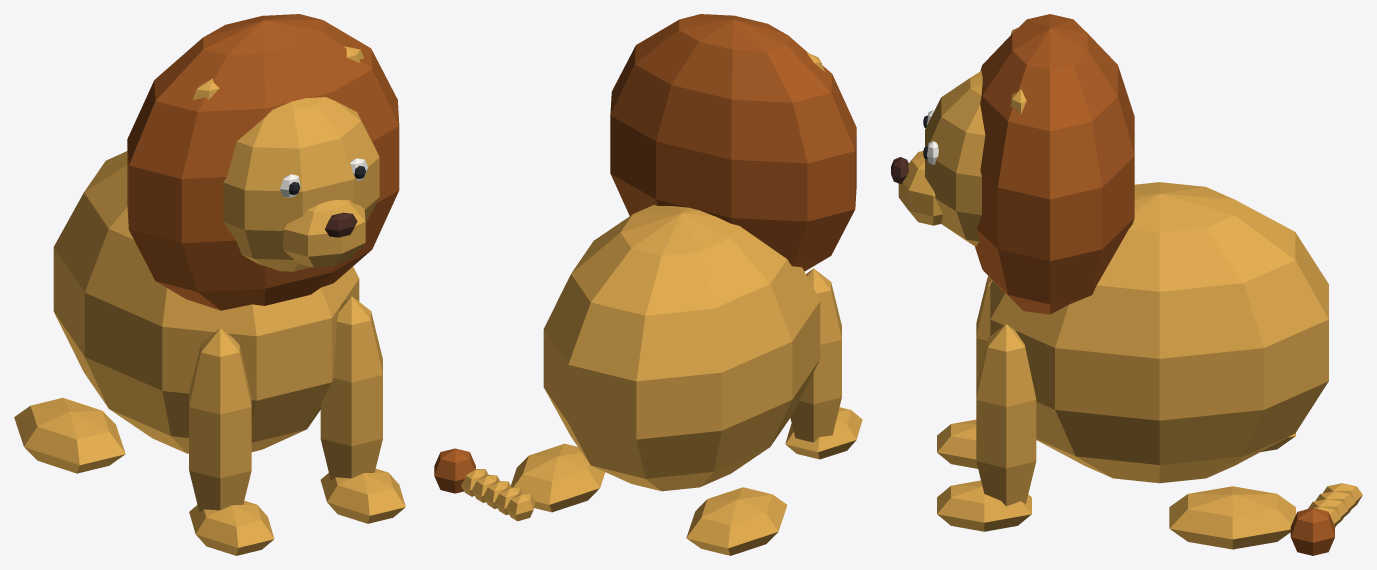
Rendered from animal_lion.glb.
3 views of the same model, side by side, from view 1: azimuth 30°, elevation 25°; view 2: azimuth 150°, elevation 25°; view 3: azimuth 270°, elevation 25° (orthographic). The views are drawn at different scales.
Visible parts, largest first — view 1: mane_lion_mane, body_lion_fur, head_lion_fur, legs_lion_fur, feet_lion_fur, face_lion_nose, face_circus_white; view 2: body_lion_fur, mane_lion_mane, feet_lion_fur, legs_lion_fur, tail_lion_fur, tail_lion_mane; view 3: body_lion_fur, mane_lion_mane, feet_lion_fur, legs_lion_fur, head_lion_fur, tail_lion_mane, tail_lion_fur.
Boxes of the visible parts, box(x1,y1,x2,y2) form: mane_lion_mane: box(127, 14, 399, 310); body_lion_fur: box(53, 151, 359, 453); head_lion_fur: box(193, 46, 379, 271); legs_lion_fur: box(189, 296, 382, 512); feet_lion_fur: box(14, 397, 405, 555); face_lion_nose: box(325, 212, 357, 237); face_circus_white: box(280, 158, 368, 197); body_lion_fur: box(543, 205, 820, 491); mane_lion_mane: box(610, 14, 856, 271); feet_lion_fur: box(511, 407, 862, 555); legs_lion_fur: box(790, 268, 841, 442); tail_lion_fur: box(461, 468, 534, 521); tail_lion_mane: box(434, 448, 475, 493); body_lion_fur: box(990, 182, 1328, 483); mane_lion_mane: box(975, 14, 1134, 314); feet_lion_fur: box(937, 419, 1295, 549); legs_lion_fur: box(976, 276, 1036, 506); head_lion_fur: box(898, 27, 1026, 246); tail_lion_mane: box(1290, 508, 1334, 555); tail_lion_fur: box(1305, 483, 1362, 527).
Size of the model in its own units: 1.03 by 1.41 by 1.29.
